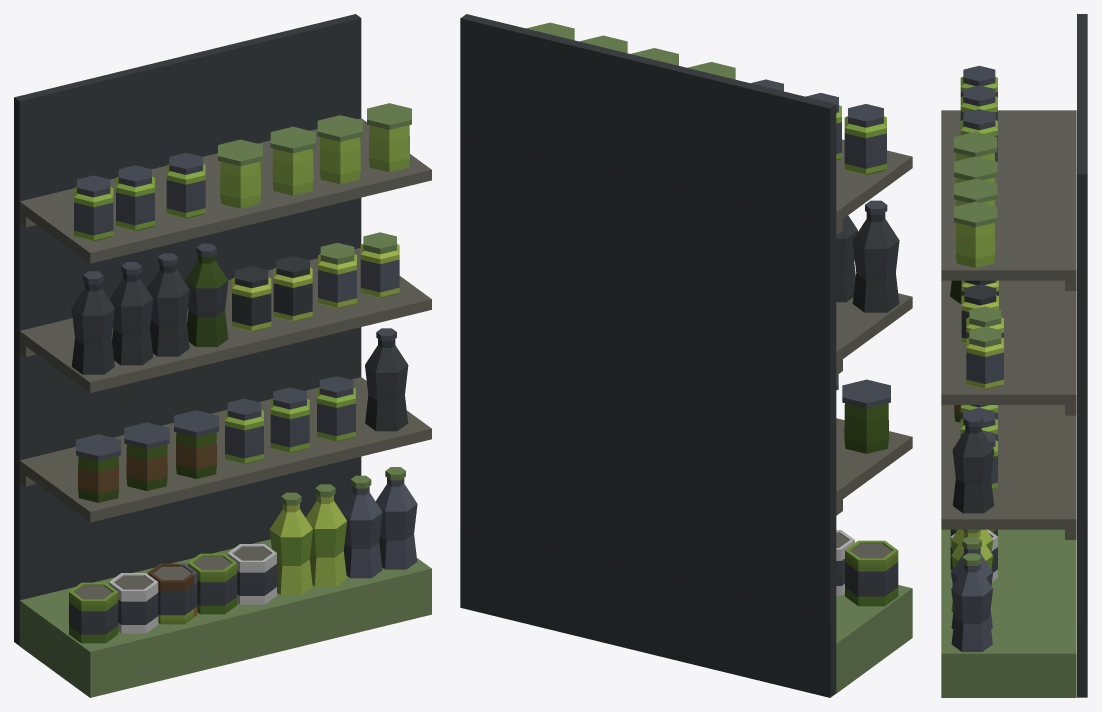
Rendered from SuperMarketPart_04.fbx.
3 renders of one model, left to right at view 1: azimuth 30°, elevation 25°; view 2: azimuth 150°, elevation 25°; view 3: azimuth 270°, elevation 25°, orthographic. The views are drawn at different scales.
Parts seen in each view (by area): view 1: SuperMarketPart_04; view 2: SuperMarketPart_04; view 3: SuperMarketPart_04.
Boxes of the visible parts, x1=… form: SuperMarketPart_04: x1=14, y1=14, x2=431, y2=697; SuperMarketPart_04: x1=460, y1=14, x2=912, y2=697; SuperMarketPart_04: x1=941, y1=14, x2=1087, y2=697.
Bounding box in the file's own units: 1.12 × 1.7 × 0.4298.
